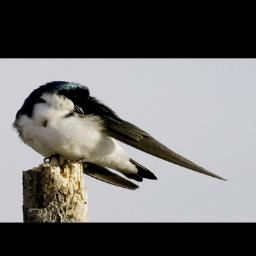Swallow: (10, 79, 227, 191)
